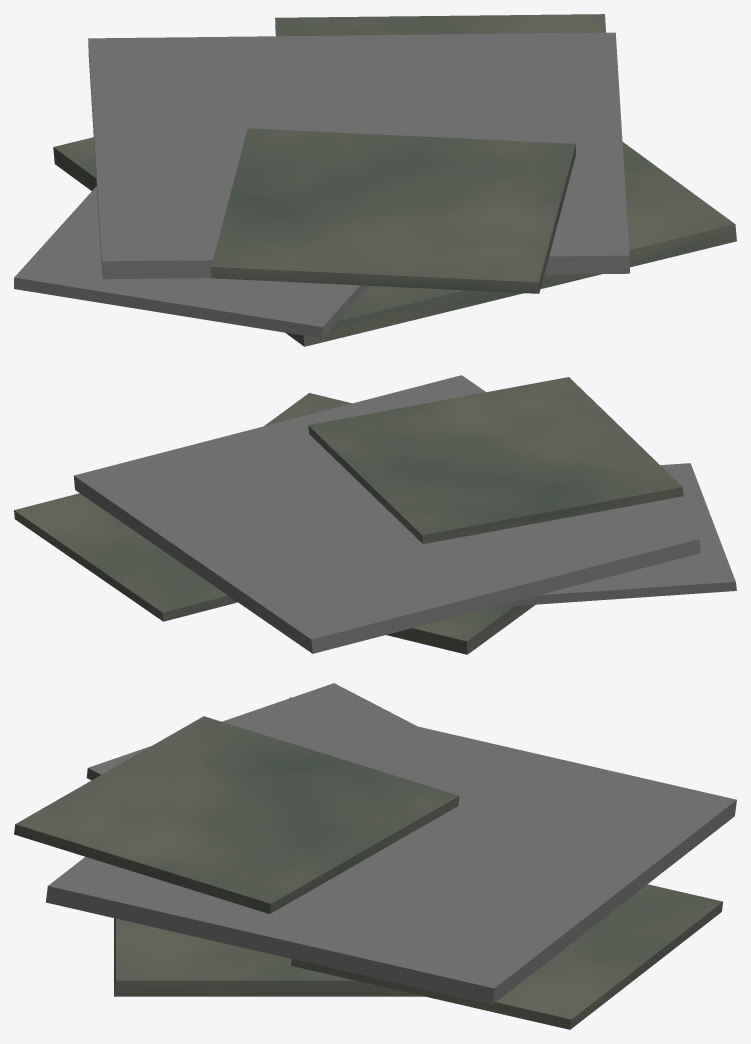
The model's file is RS_nt_metal.fbx.
The picture shows the model from 3 angles, top to bottom: view 1: azimuth 30°, elevation 25°; view 2: azimuth 150°, elevation 25°; view 3: azimuth 270°, elevation 25°; orthographic projection. The views are drawn at different scales.
Parts seen in each view (by area): view 1: Плоскость; view 2: Плоскость; view 3: Плоскость.
Boxes of the visible parts, x1,y1,x2,y2 form: Плоскость: [14, 14, 736, 346]; Плоскость: [14, 375, 736, 654]; Плоскость: [14, 683, 736, 1029].
Size of the model in its own units: 18.85 by 1.6 by 17.15.
